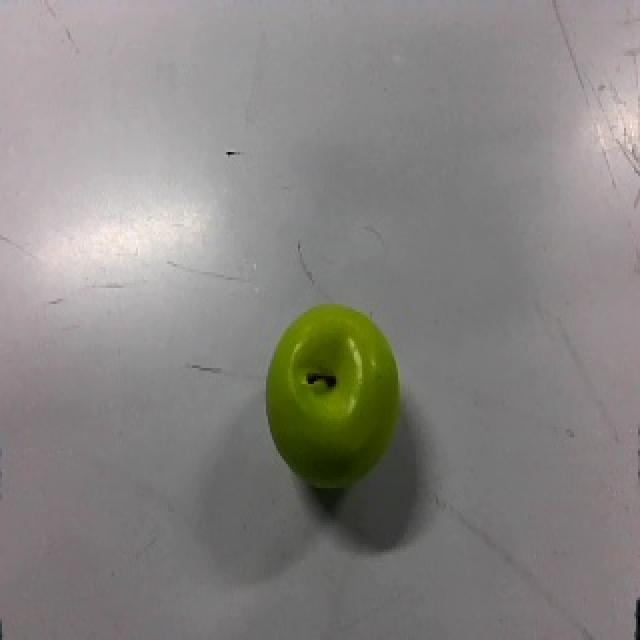apple: (264, 302, 402, 492)
